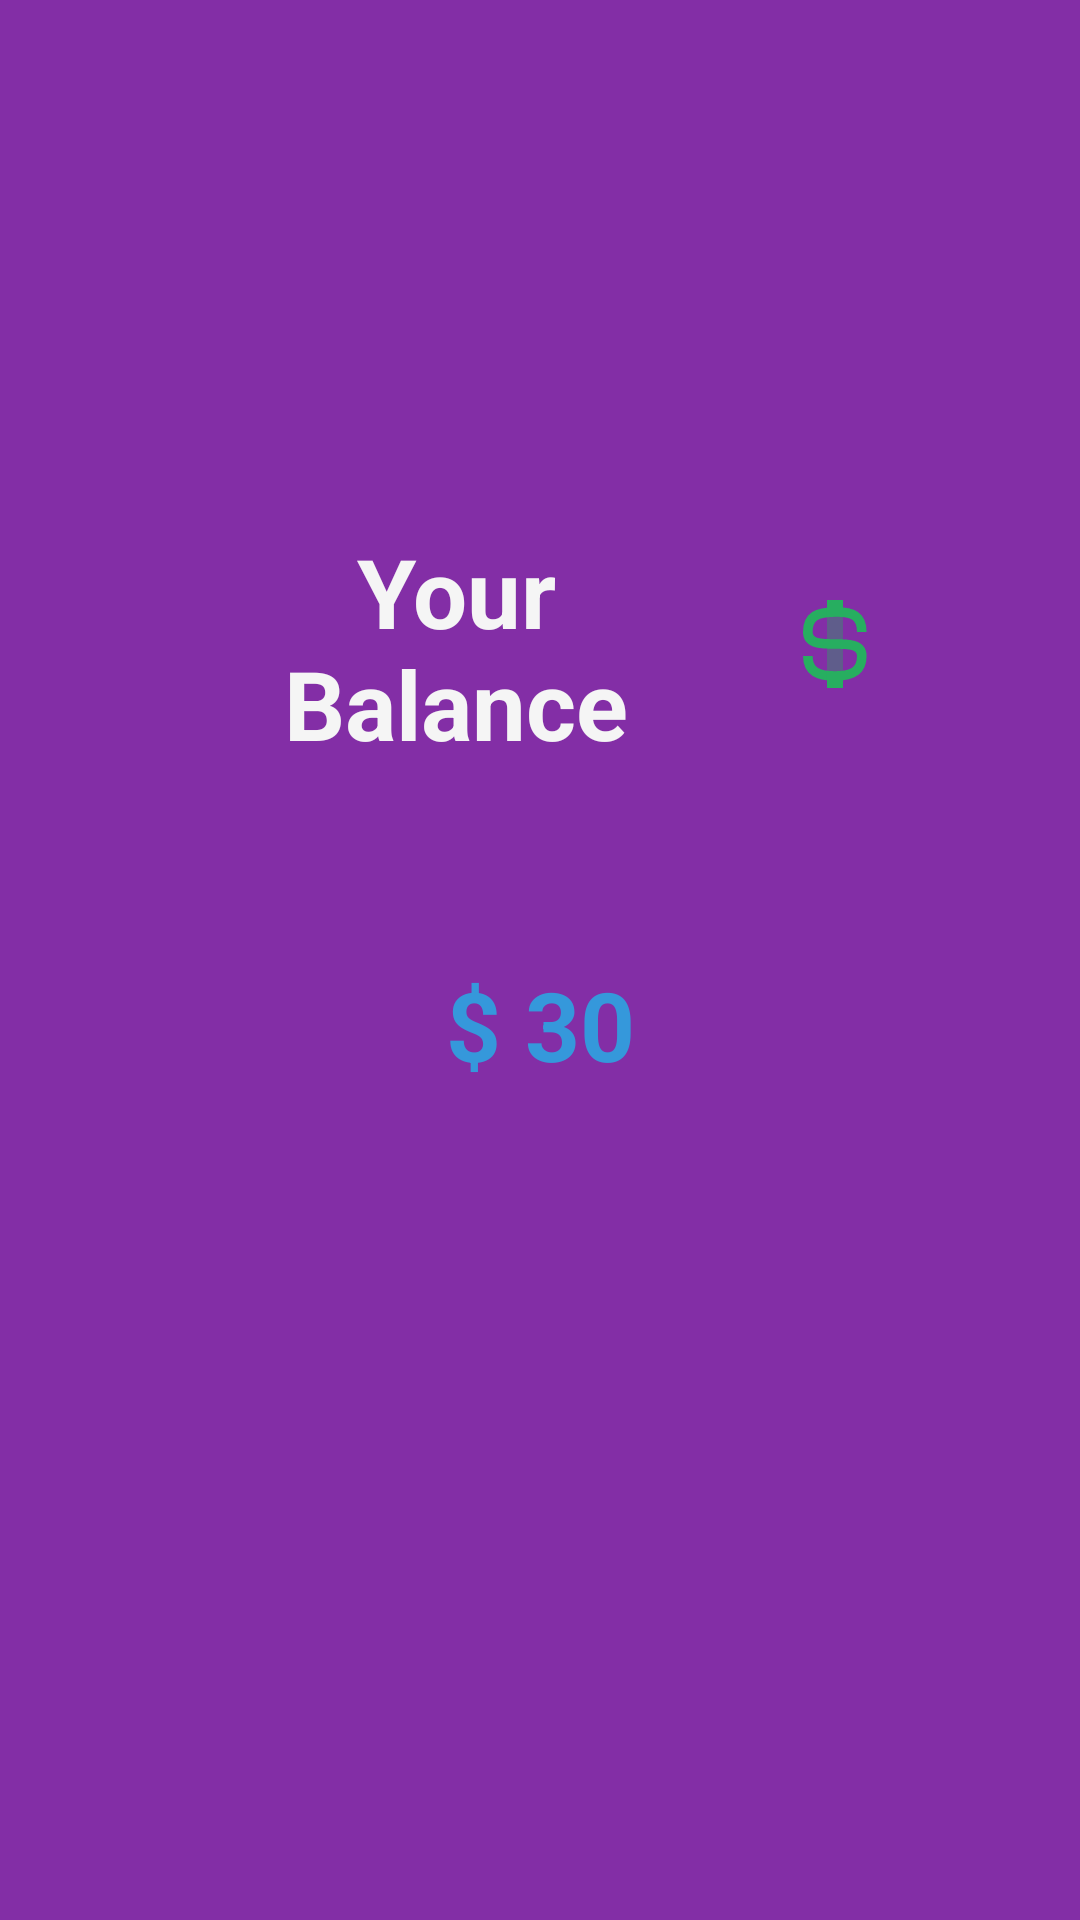

Screen size 1080px×1920px. Icon name, then its center in pixels as [x,y]:
money: [835,644]
